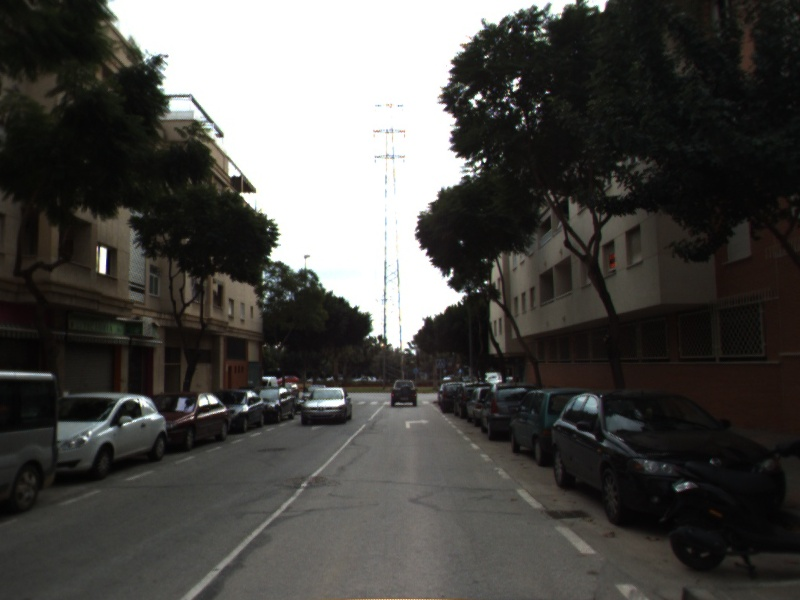RIGHT: (403, 417, 432, 430)
